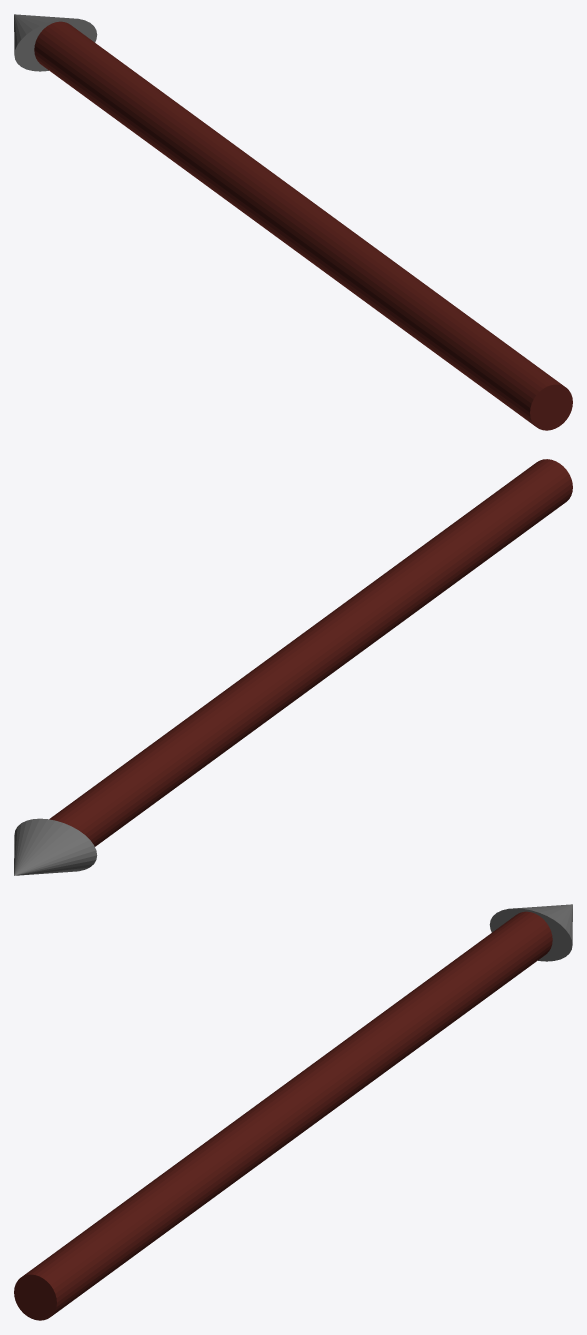
The model's file is Arrow.gltf.
3 views of the same model, one above another, from view 1: azimuth 30°, elevation 25°; view 2: azimuth 150°, elevation 25°; view 3: azimuth 330°, elevation 25° (orthographic).
Parts seen in each view (by area): view 1: Cylinder; view 2: Cylinder; view 3: Cylinder.
Boxes of the visible parts, <box> form: Cylinder: <box>14,14,572,430</box>; Cylinder: <box>14,459,572,875</box>; Cylinder: <box>14,904,572,1320</box>.
Bounding box in the file's own units: 0.0386 × 0.0219 × 0.4333.
